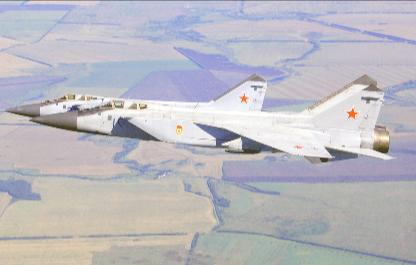Mig31: (10, 73, 398, 163), (0, 72, 272, 117)
